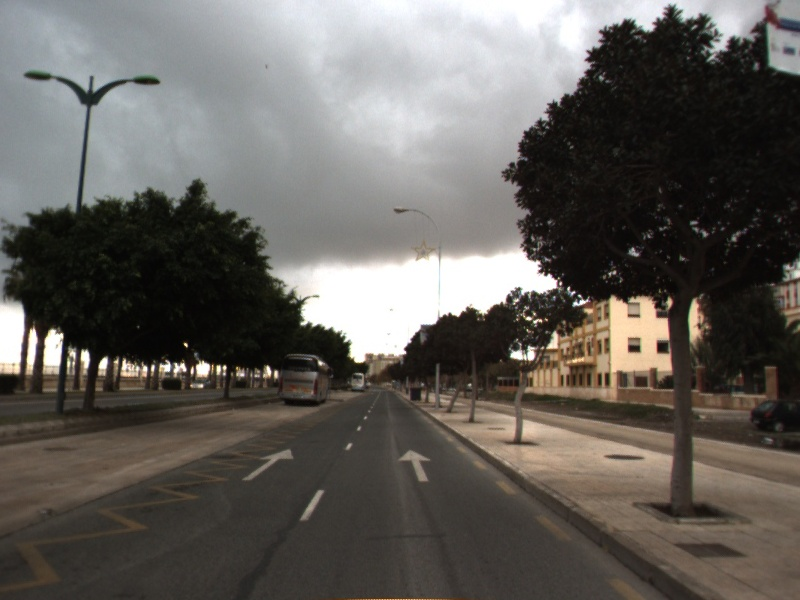STRAIGHT: (240, 446, 296, 482), (396, 447, 433, 484)
